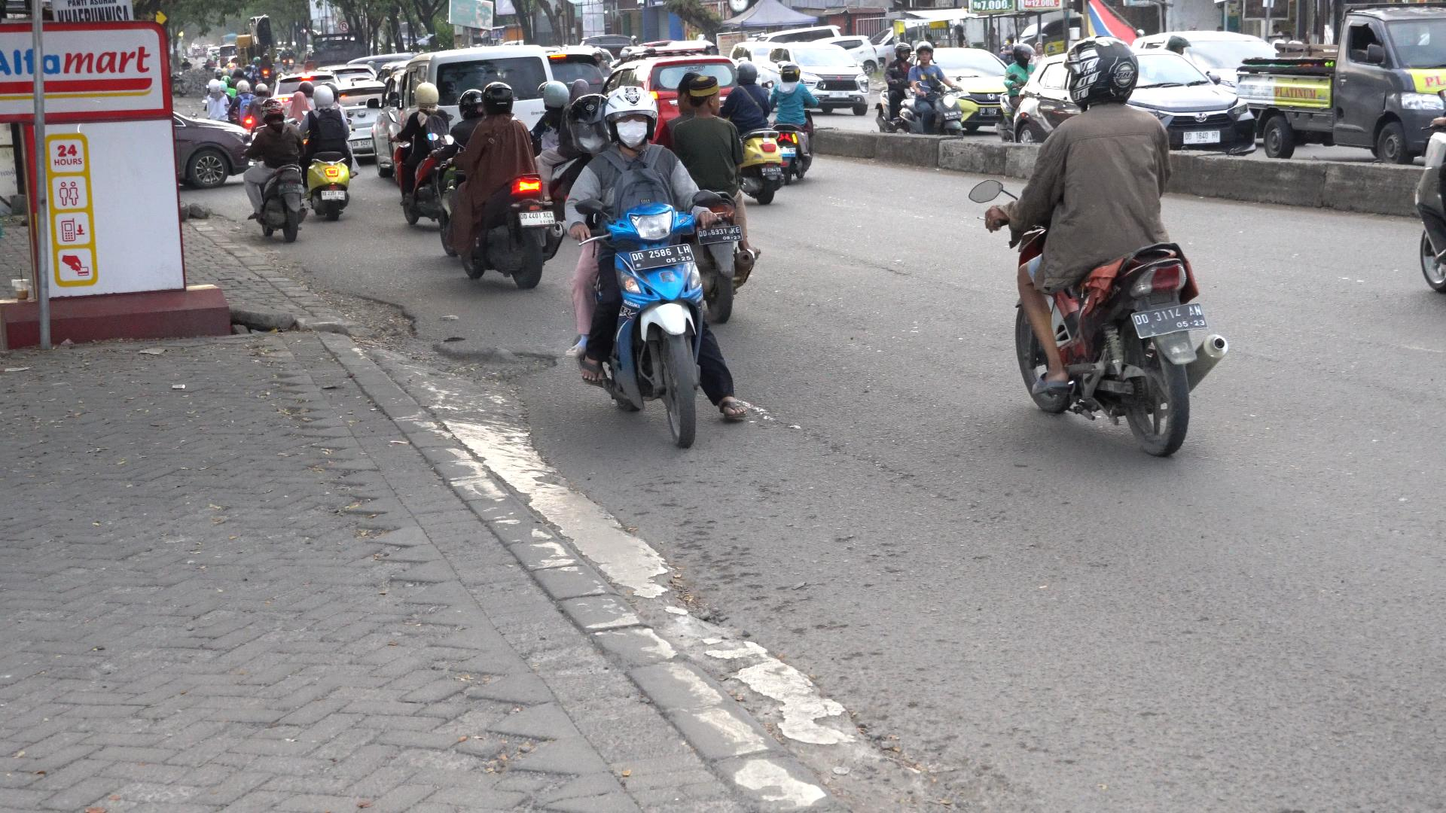number-plate: (630, 240, 696, 276)
